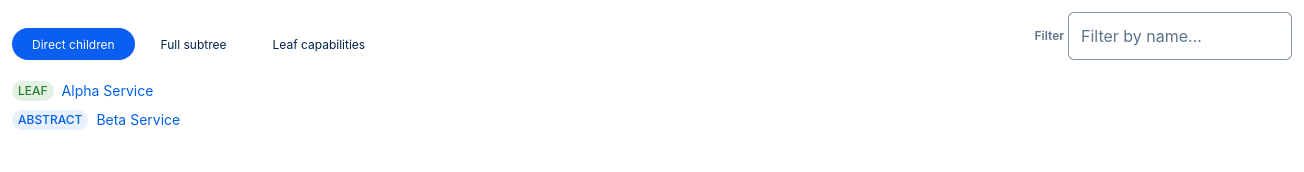
Test: CapabilityHierarchyExplorer › filter input › filters the children list by name substring (case-insensitive)
Type "alpha" into the search field named "filter capabilities by name".
click(1180, 36); type("alpha")  # box x1=1068 y1=12 x2=1292 y2=60
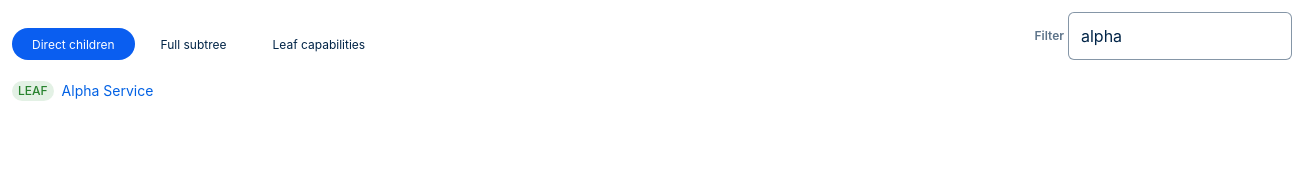
Expected: the link "Alpha Service" is shown, x1=62 y1=80 x2=153 y2=101
Expected: the link "Beta Service" is gone
